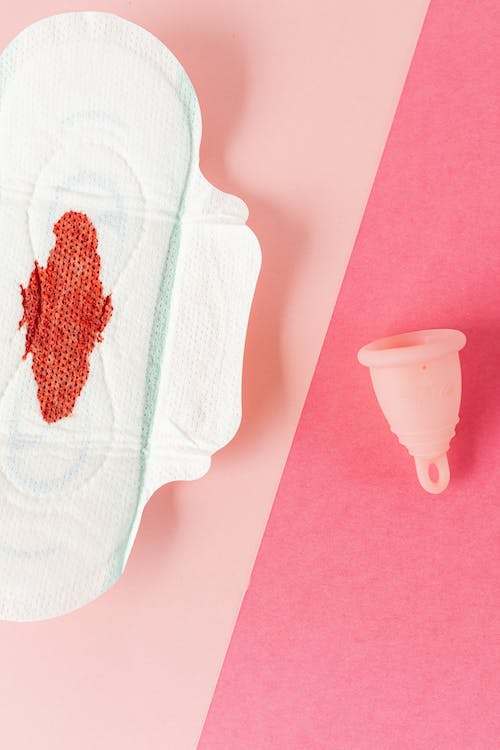blood: (16, 208, 116, 426)
